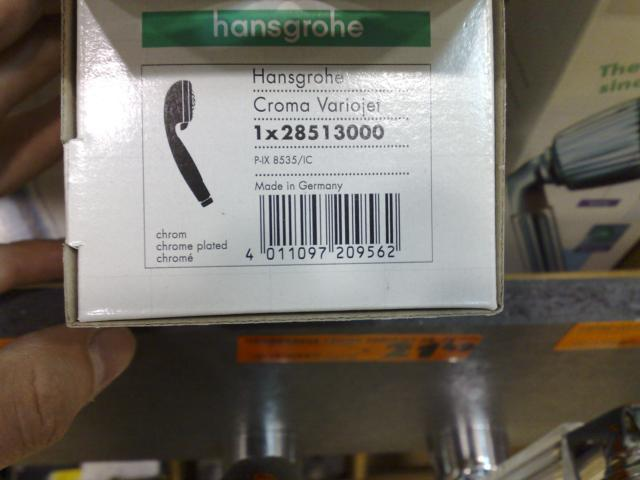Barkod: (258, 192, 402, 243)
